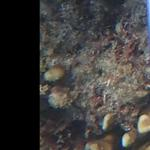dead: (39, 1, 147, 148)
